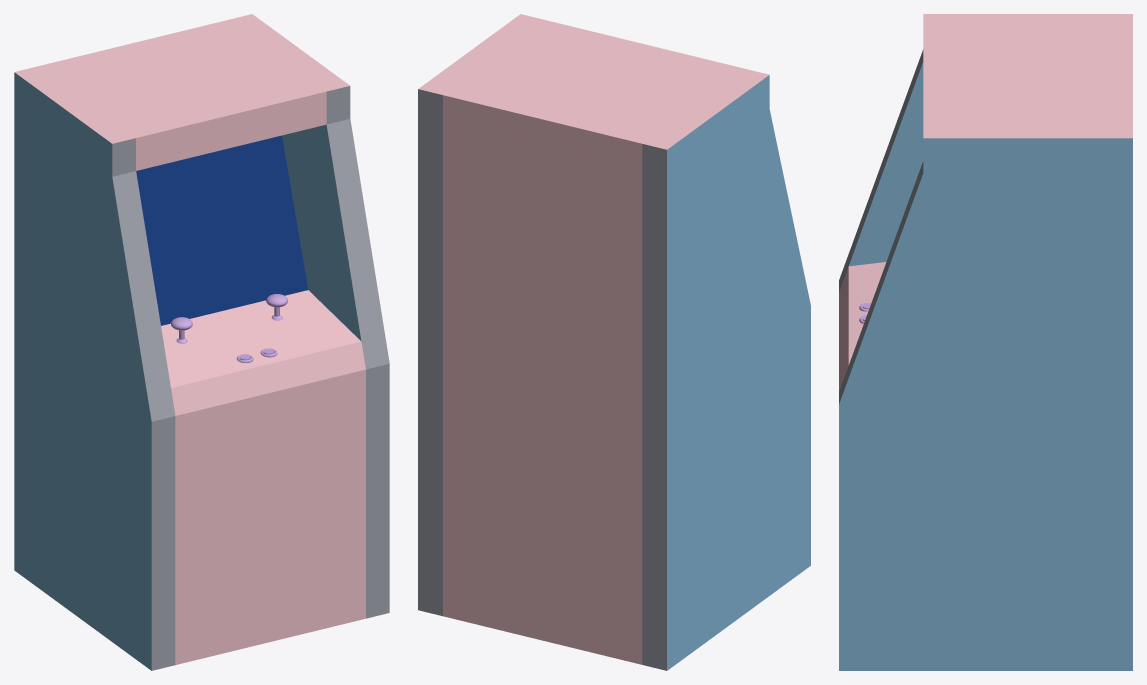
File: arcade.glb
3 renders of one model, left to right at view 1: azimuth 30°, elevation 25°; view 2: azimuth 150°, elevation 25°; view 3: azimuth 270°, elevation 25°, orthographic. The views are drawn at different scales.
Visible parts, largest first — view 1: Machine; view 2: Machine; view 3: Machine.
Boxes of the visible parts, bbox=[...] form: Machine: bbox=[14, 14, 389, 670]; Machine: bbox=[418, 14, 810, 670]; Machine: bbox=[839, 14, 1132, 670].
Bounding box in the file's own units: 10 × 20 × 10.
